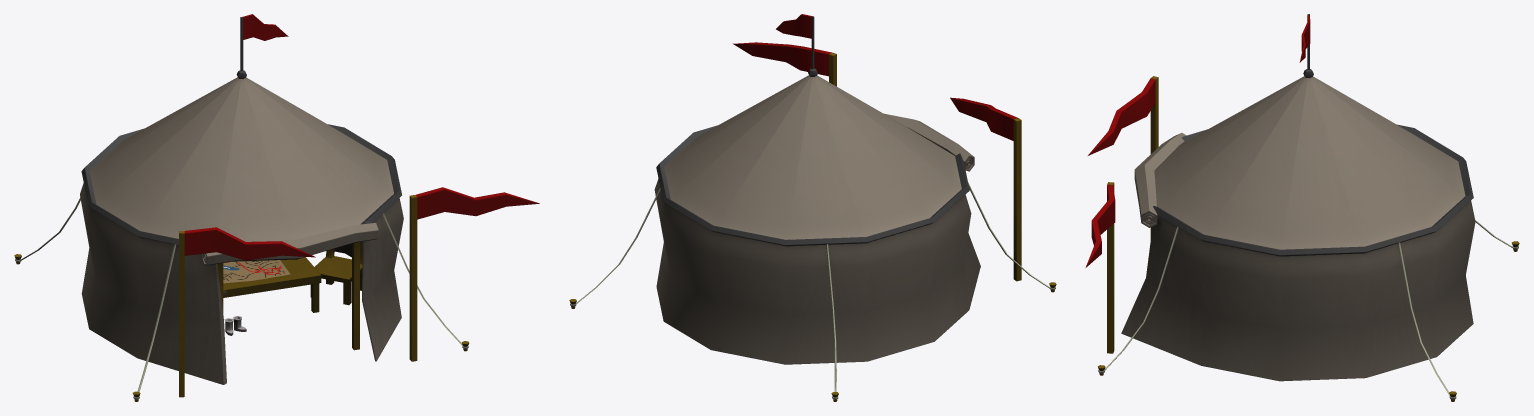
The model's file is tent3.glb.
3 views of the same model, side by side, from view 1: azimuth 30°, elevation 25°; view 2: azimuth 150°, elevation 25°; view 3: azimuth 270°, elevation 25° (orthographic). The views are drawn at different scales.
Visible parts, largest first — view 1: Generals_Tent; view 2: Generals_Tent; view 3: Generals_Tent.
Part boxes in pixels (x1,y1,x2,y2): Generals_Tent: [14, 14, 539, 401]; Generals_Tent: [569, 14, 1056, 401]; Generals_Tent: [1085, 14, 1519, 401].
Size of the model in its own units: 2 by 1.51 by 1.98.
1 material, 1 textured.
